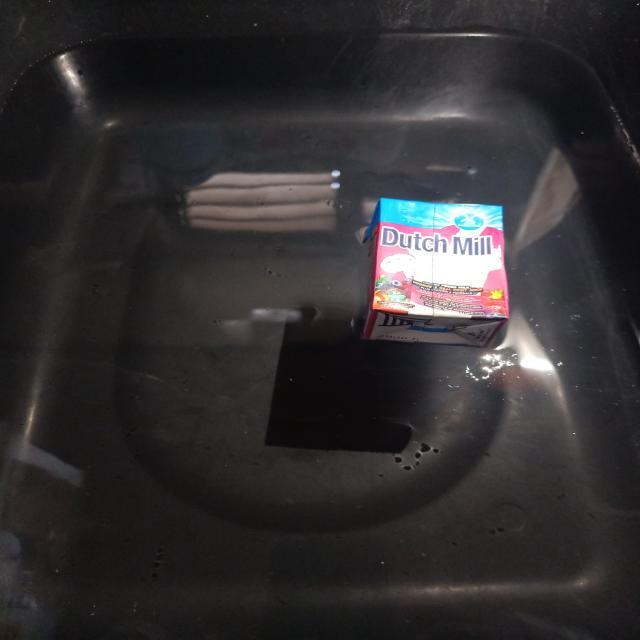Cardboard Box: (363, 198, 509, 347)
